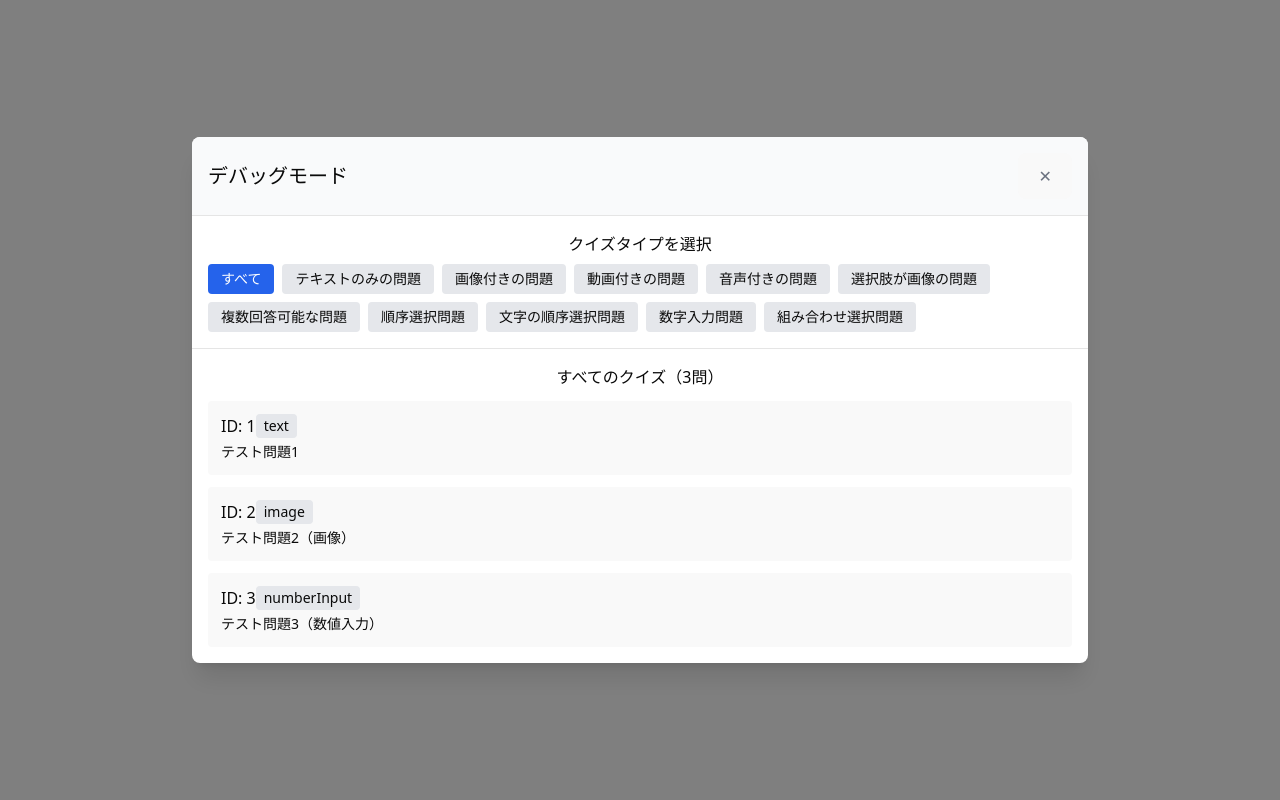
Test: DebugModal › 「すべて」ボタンをクリックするとすべてのクイズが表示されること
The image size is (1280, 800).
Note: まず特定のタイプでフィルタリング
Step 1. Click the button "画像付きの問題" → [504, 279], box [442,264,566,294]
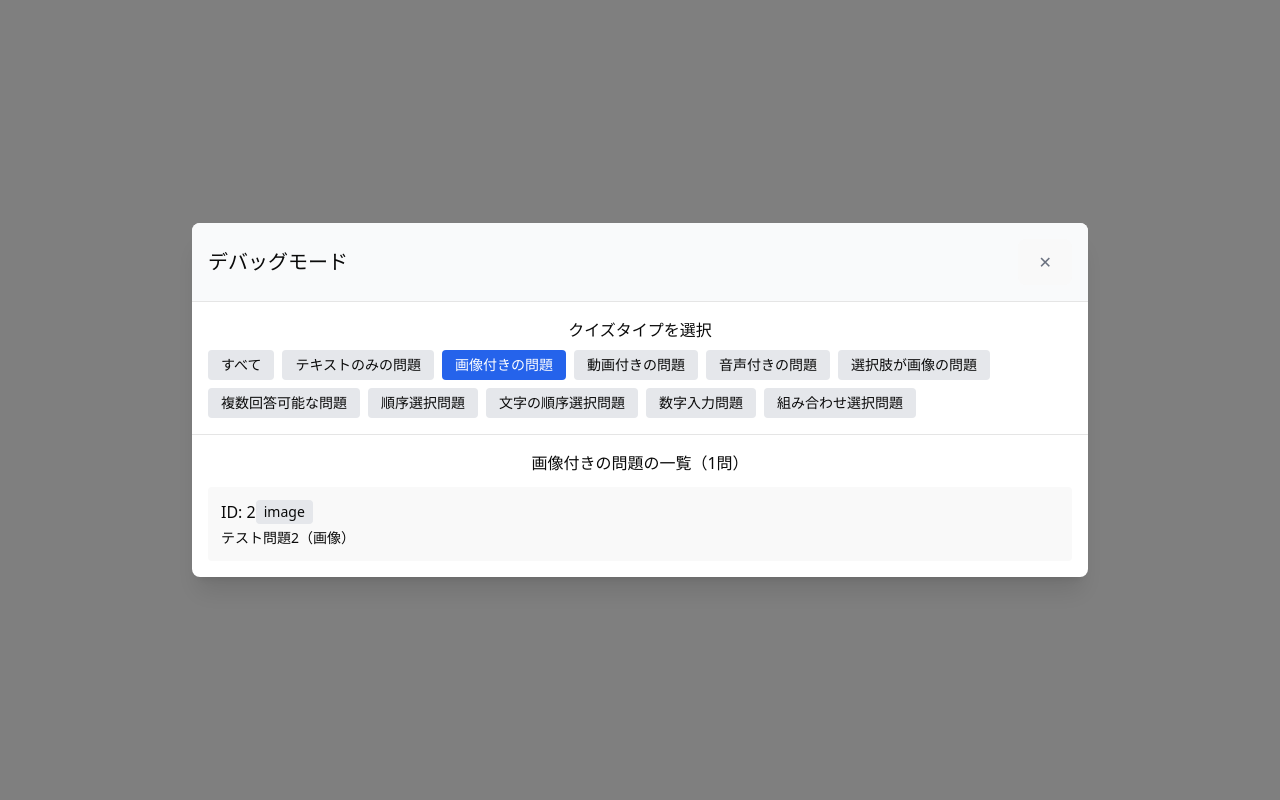
Note: 次に「すべて」ボタンをクリック
Step 2. Click the button "すべて" → [241, 365], box [208,350,274,380]
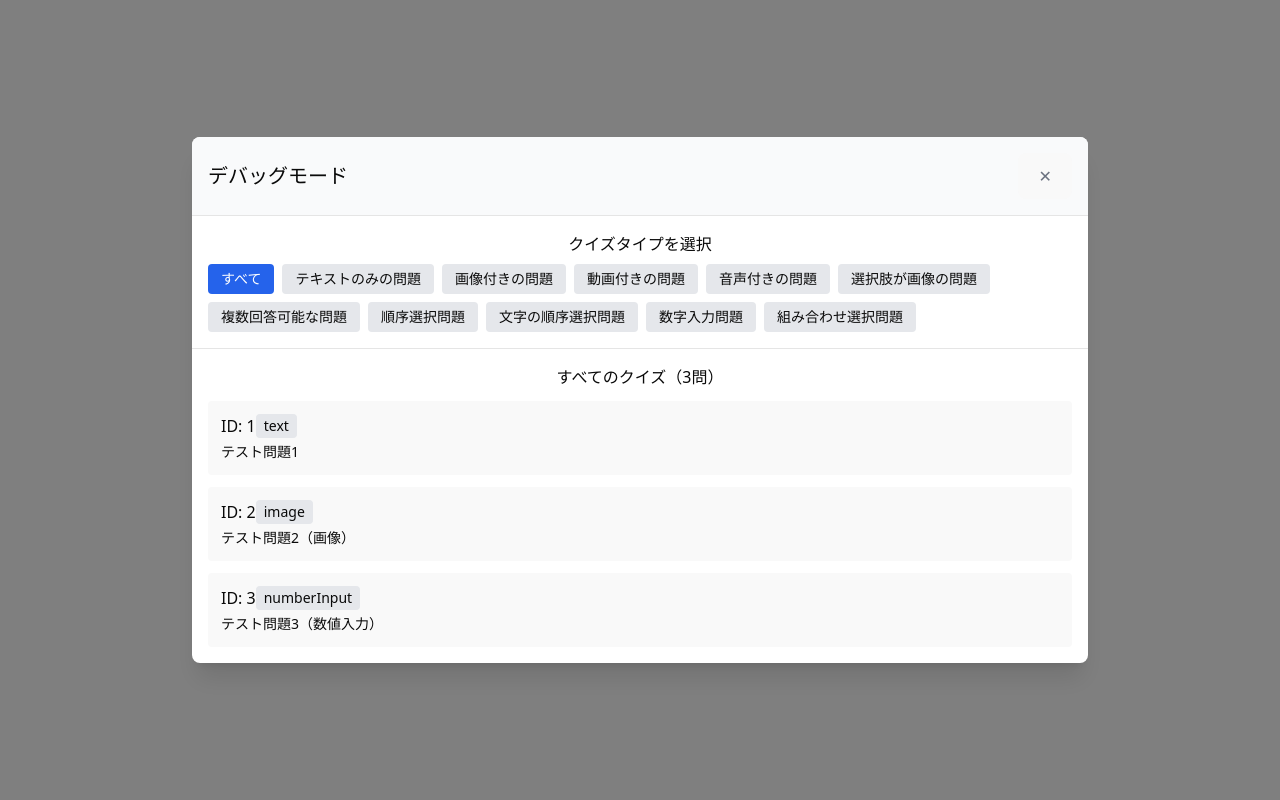
Expected: the text "ID: 2" is shown, [221,500,256,524]
Expected: the text "ID: 1" is shown, [221,414,256,438]
Expected: the text "ID: 3" is shown, [221,586,256,610]
